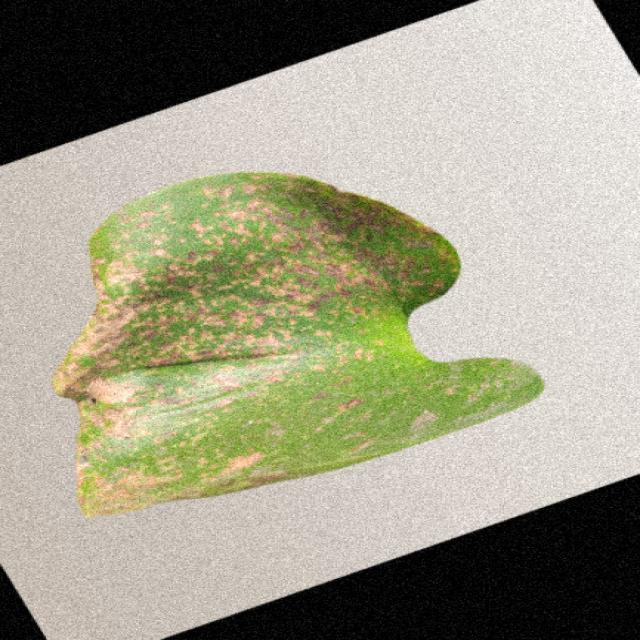daun berpenyakit bercak: (53, 172, 543, 517)
